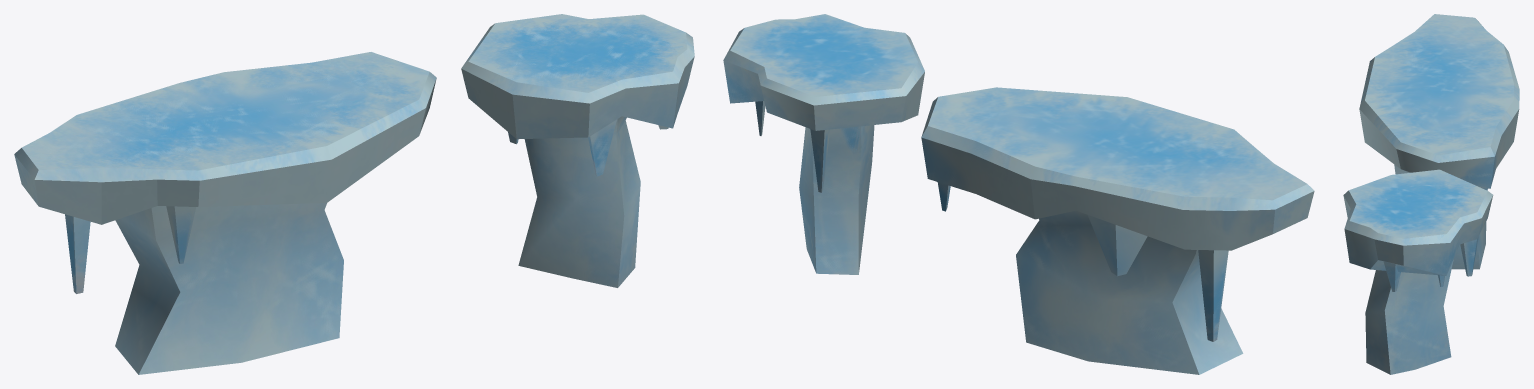
The model's file is platform_4.fbx.
3 views of the same model, side by side, from view 1: azimuth 30°, elevation 25°; view 2: azimuth 150°, elevation 25°; view 3: azimuth 270°, elevation 25° (orthographic). The views are drawn at different scales.
Parts seen in each view (by area): view 1: Platform3, Platform4; view 2: Platform3, Platform4; view 3: Platform3, Platform4.
Part boxes in pixels (x1,y1,x2,y2): Platform3: (14, 52, 436, 374); Platform4: (461, 14, 694, 287); Platform3: (921, 87, 1314, 374); Platform4: (723, 14, 924, 274); Platform3: (1359, 14, 1519, 269); Platform4: (1343, 169, 1493, 374).
Bounding box in the file's own units: 778 × 249 × 253.
